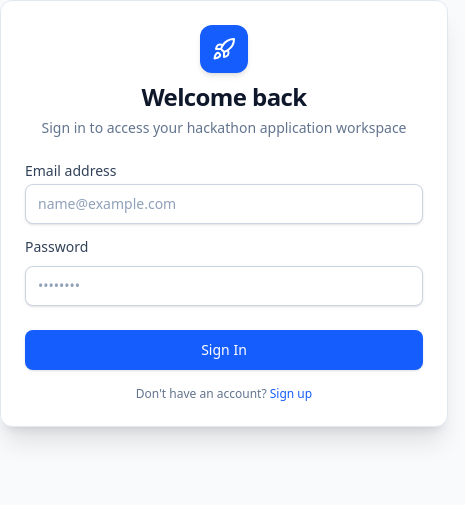
Test: LoginForm Component › displays client-side validation errors when submitting invalid inputs
Click the button "Sign In" at (224, 350), box x1=25 y1=330 x2=423 y2=370
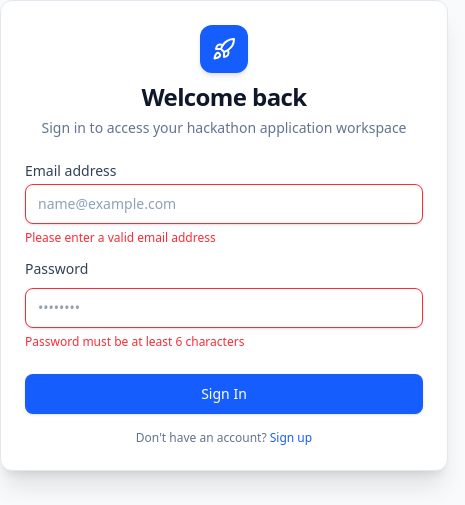
Expected: the text "Please enter a valid email address" is shown, x1=25 y1=229 x2=216 y2=246
